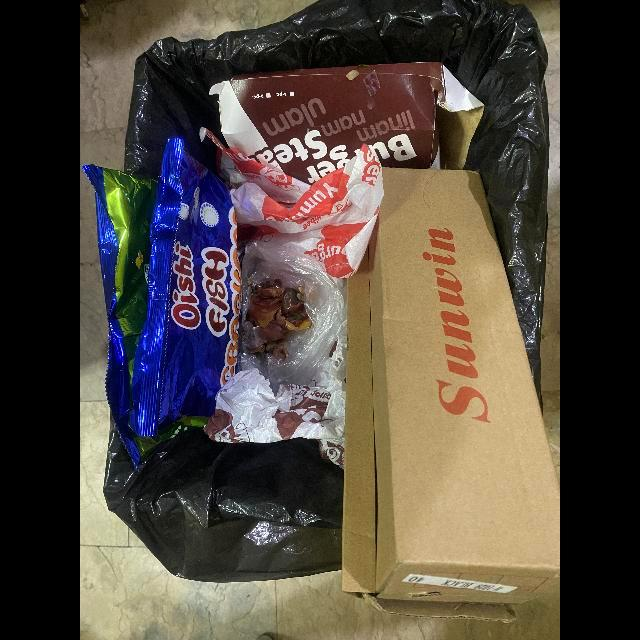cardboard: (342, 168, 560, 612), (209, 62, 485, 185)
food_wrapper: (80, 137, 240, 467)
paper: (199, 128, 384, 279), (204, 354, 346, 467)
plastic_bag: (237, 244, 344, 385)
